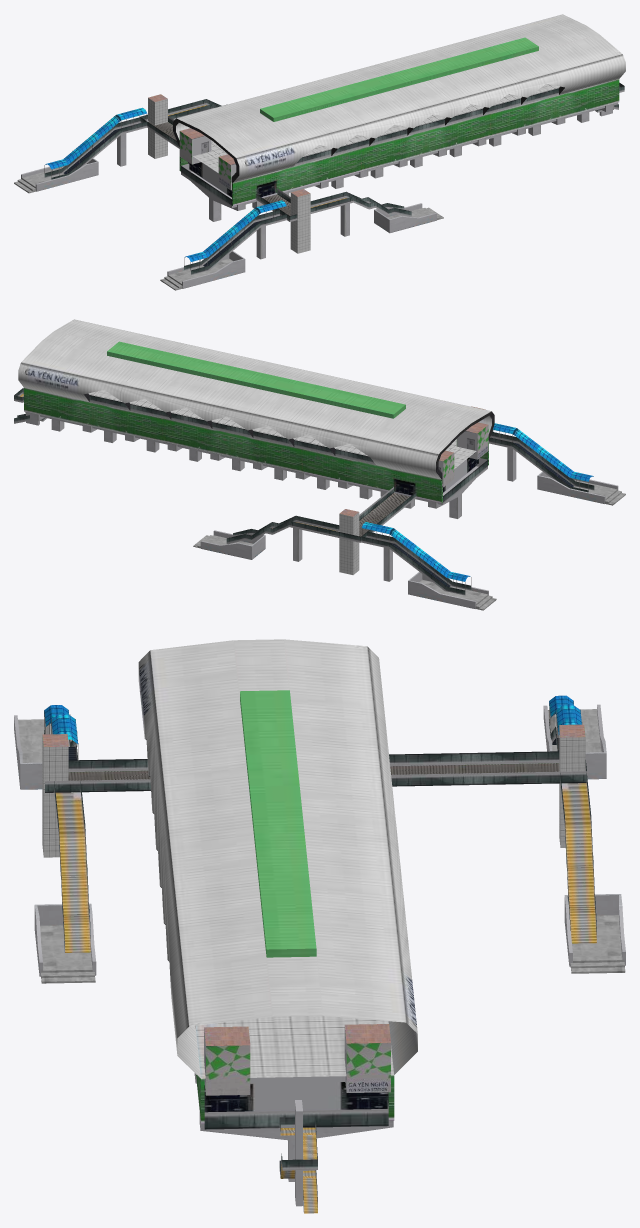
The picture shows the model from 3 angles, top to bottom: view 1: azimuth 30°, elevation 25°; view 2: azimuth 150°, elevation 25°; view 3: azimuth 270°, elevation 25°; orthographic projection. The views are drawn at different scales.
Visible parts, largest first — view 1: HN1266___Yen_Nghia_Metro_Station; view 2: HN1266___Yen_Nghia_Metro_Station; view 3: HN1266___Yen_Nghia_Metro_Station.
Boxes of the visible parts, x1,y1,x2,y2 form: HN1266___Yen_Nghia_Metro_Station: (14,14,625,290); HN1266___Yen_Nghia_Metro_Station: (14,319,625,610); HN1266___Yen_Nghia_Metro_Station: (14,639,625,1213).
Bounding box in the file's own units: 133 × 22.19 × 68.65.
Materials: 1 (1 with a texture image).
